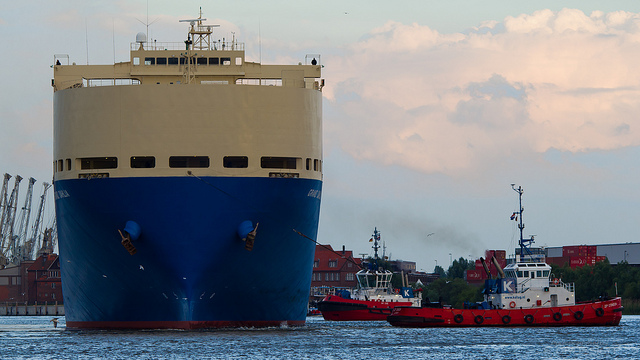PCC: (49, 13, 328, 331)
tug_boat: (387, 189, 621, 327), (316, 231, 409, 309)
